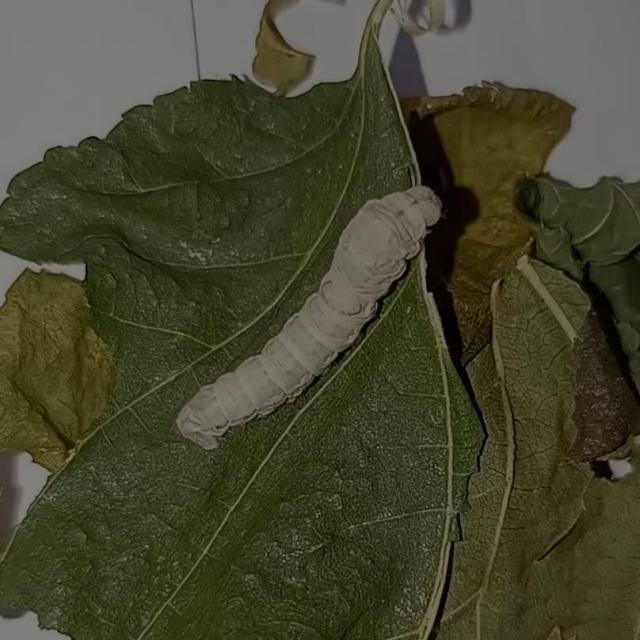Healthy: (170, 174, 445, 462)
